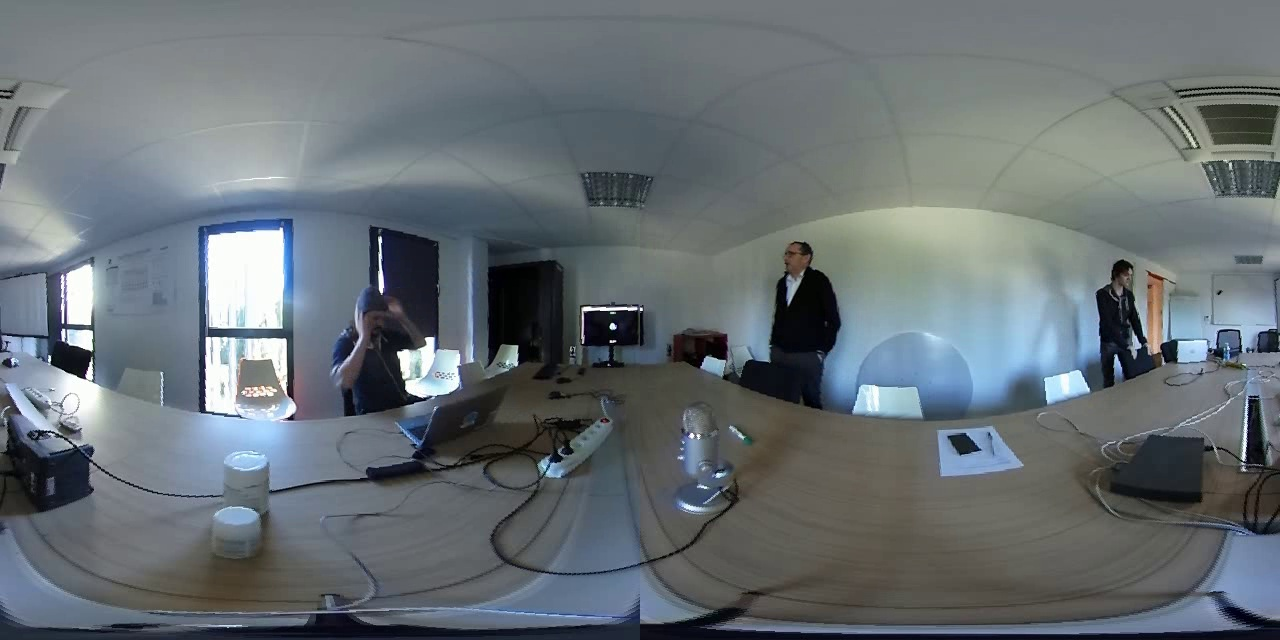person: (758, 231, 849, 376), (331, 274, 417, 397), (1091, 249, 1162, 365)
